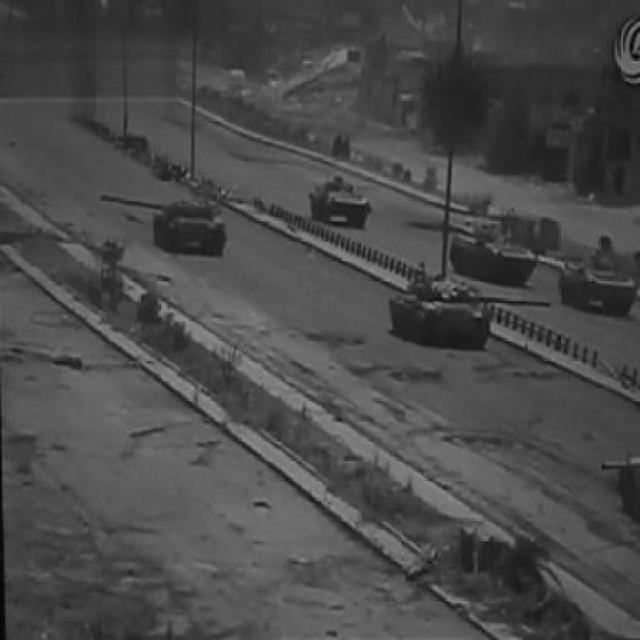Tank: (379, 254, 558, 373), (437, 195, 568, 296), (95, 176, 235, 270), (550, 223, 640, 330), (298, 158, 386, 246), (593, 443, 640, 531)
